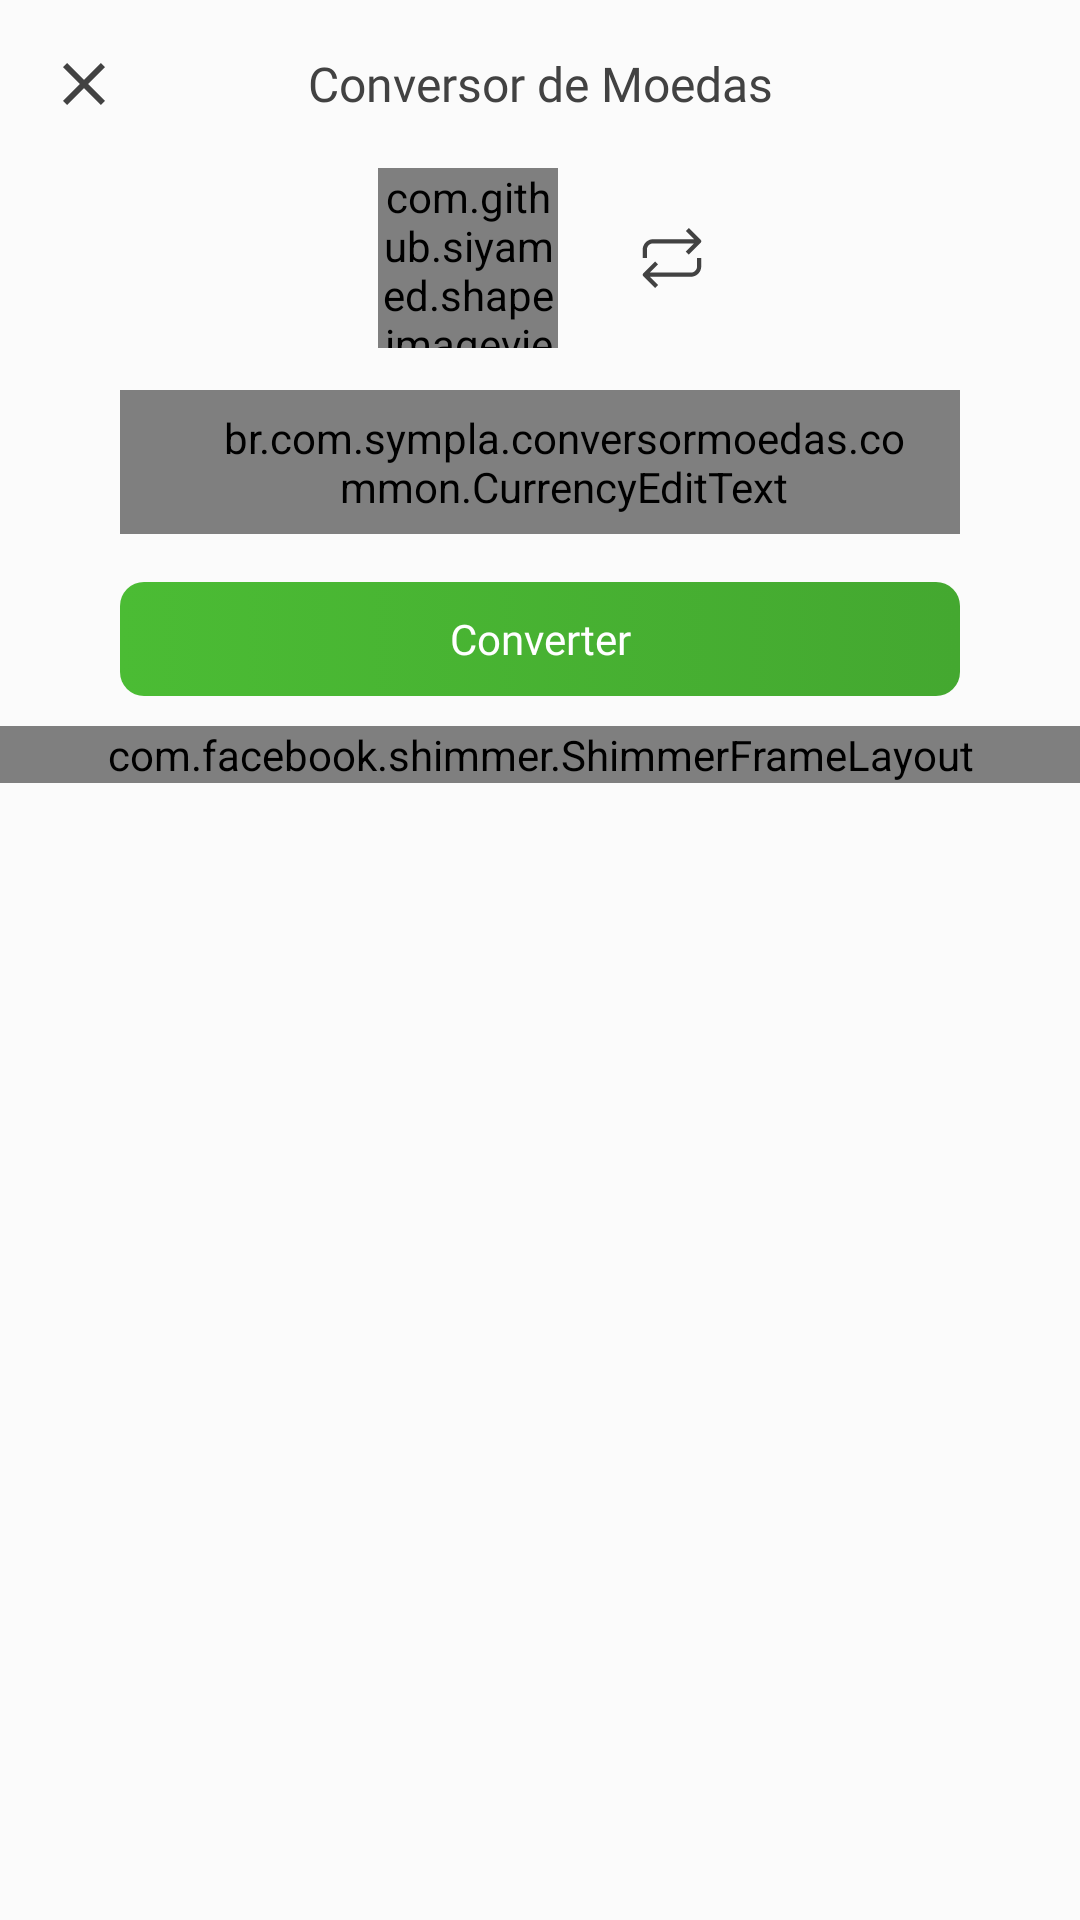

Point at icon controls on the screen. Image size 1080 × 1920, points as (x,y).
exchange: (672,258)
